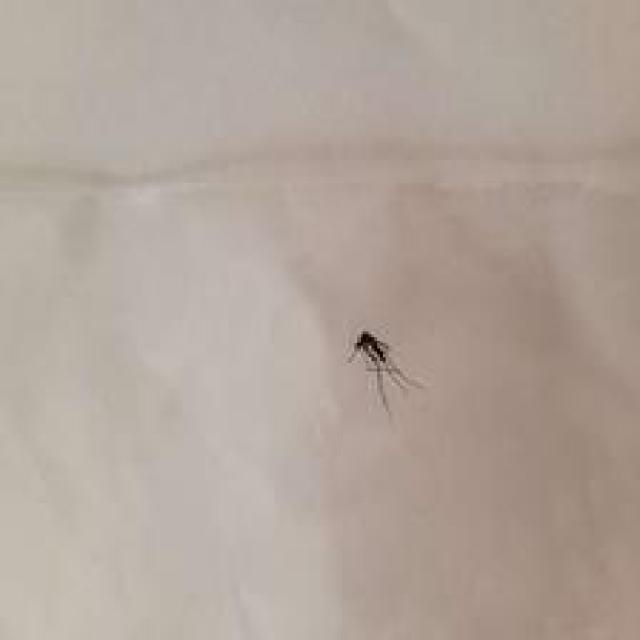Aedes albopictus: (344, 329, 424, 414)
